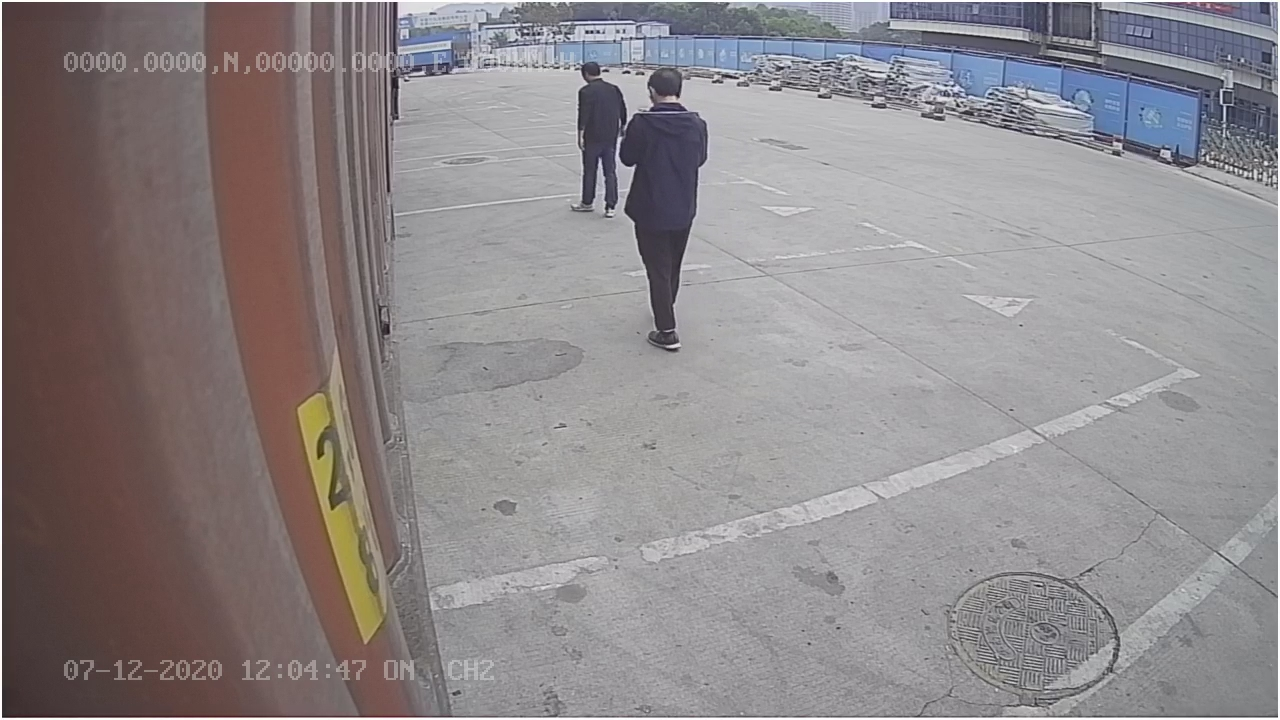person: (619, 61, 713, 356)
